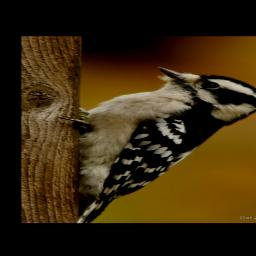Woodpecker: (62, 66, 256, 223)
